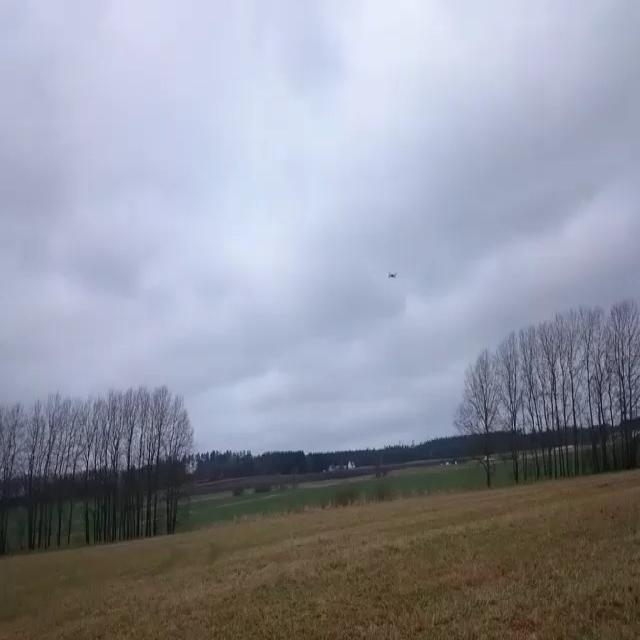drone: (387, 272, 397, 279)
